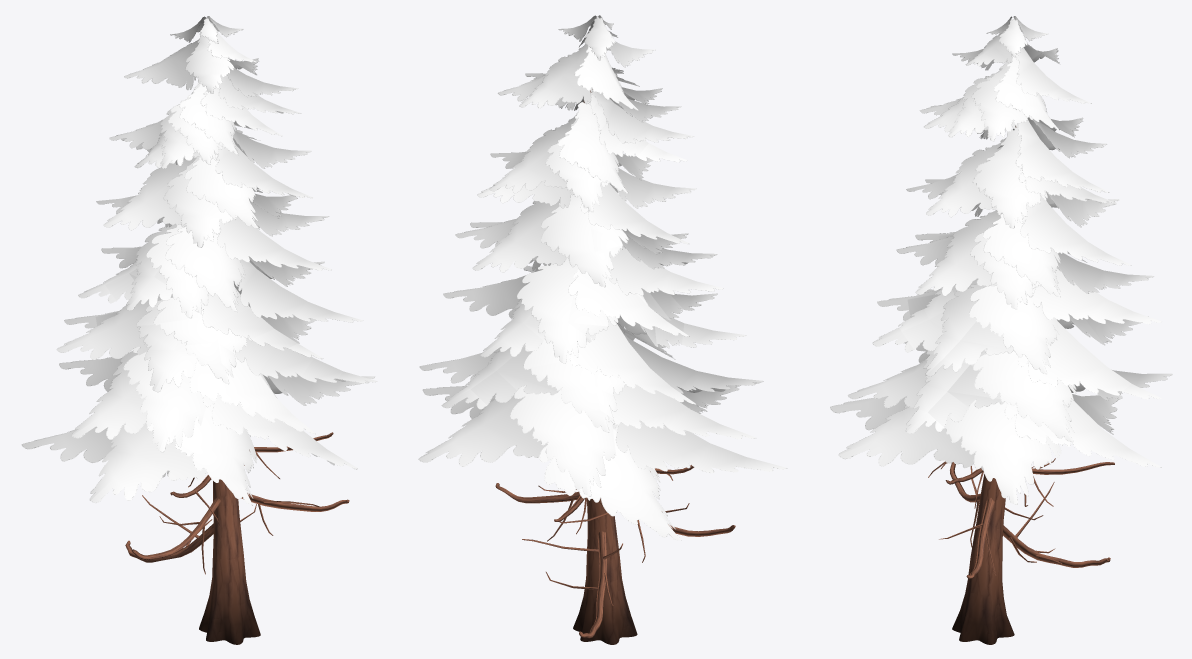
Rendered from Pine_4.gltf.
3 renders of one model, left to right at view 1: azimuth 30°, elevation 25°; view 2: azimuth 150°, elevation 25°; view 3: azimuth 270°, elevation 25°, orthographic. The views are drawn at different scales.
Parts seen in each view (by area): view 1: Pine_4; view 2: Pine_4; view 3: Pine_4.
Boxes of the visible parts, left/top/right/bottom form: Pine_4: left=21, top=16, right=377, bottom=644; Pine_4: left=418, top=15, right=787, bottom=644; Pine_4: left=830, top=16, right=1172, bottom=644.
Size of the model in its own units: 5.8 by 10.24 by 5.37.
2 materials, 2 textured.
